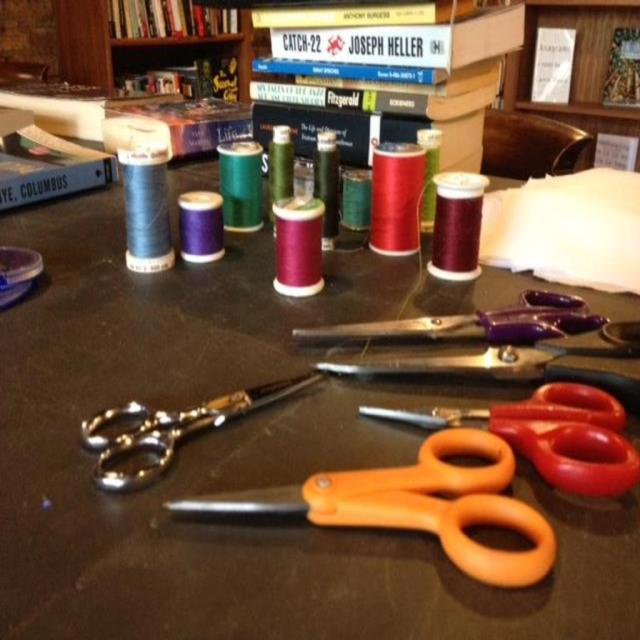scissors: (162, 428, 557, 588), (358, 380, 640, 498), (80, 369, 327, 493), (274, 274, 617, 354), (297, 314, 640, 386)
